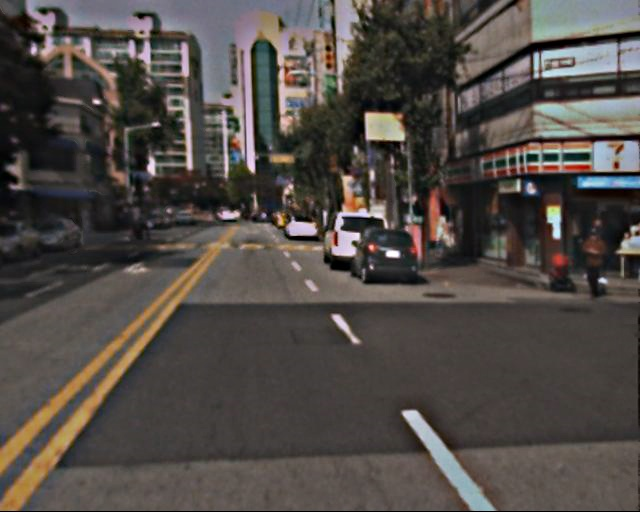person: (578, 227, 611, 300), (585, 214, 614, 284), (134, 208, 149, 245)
